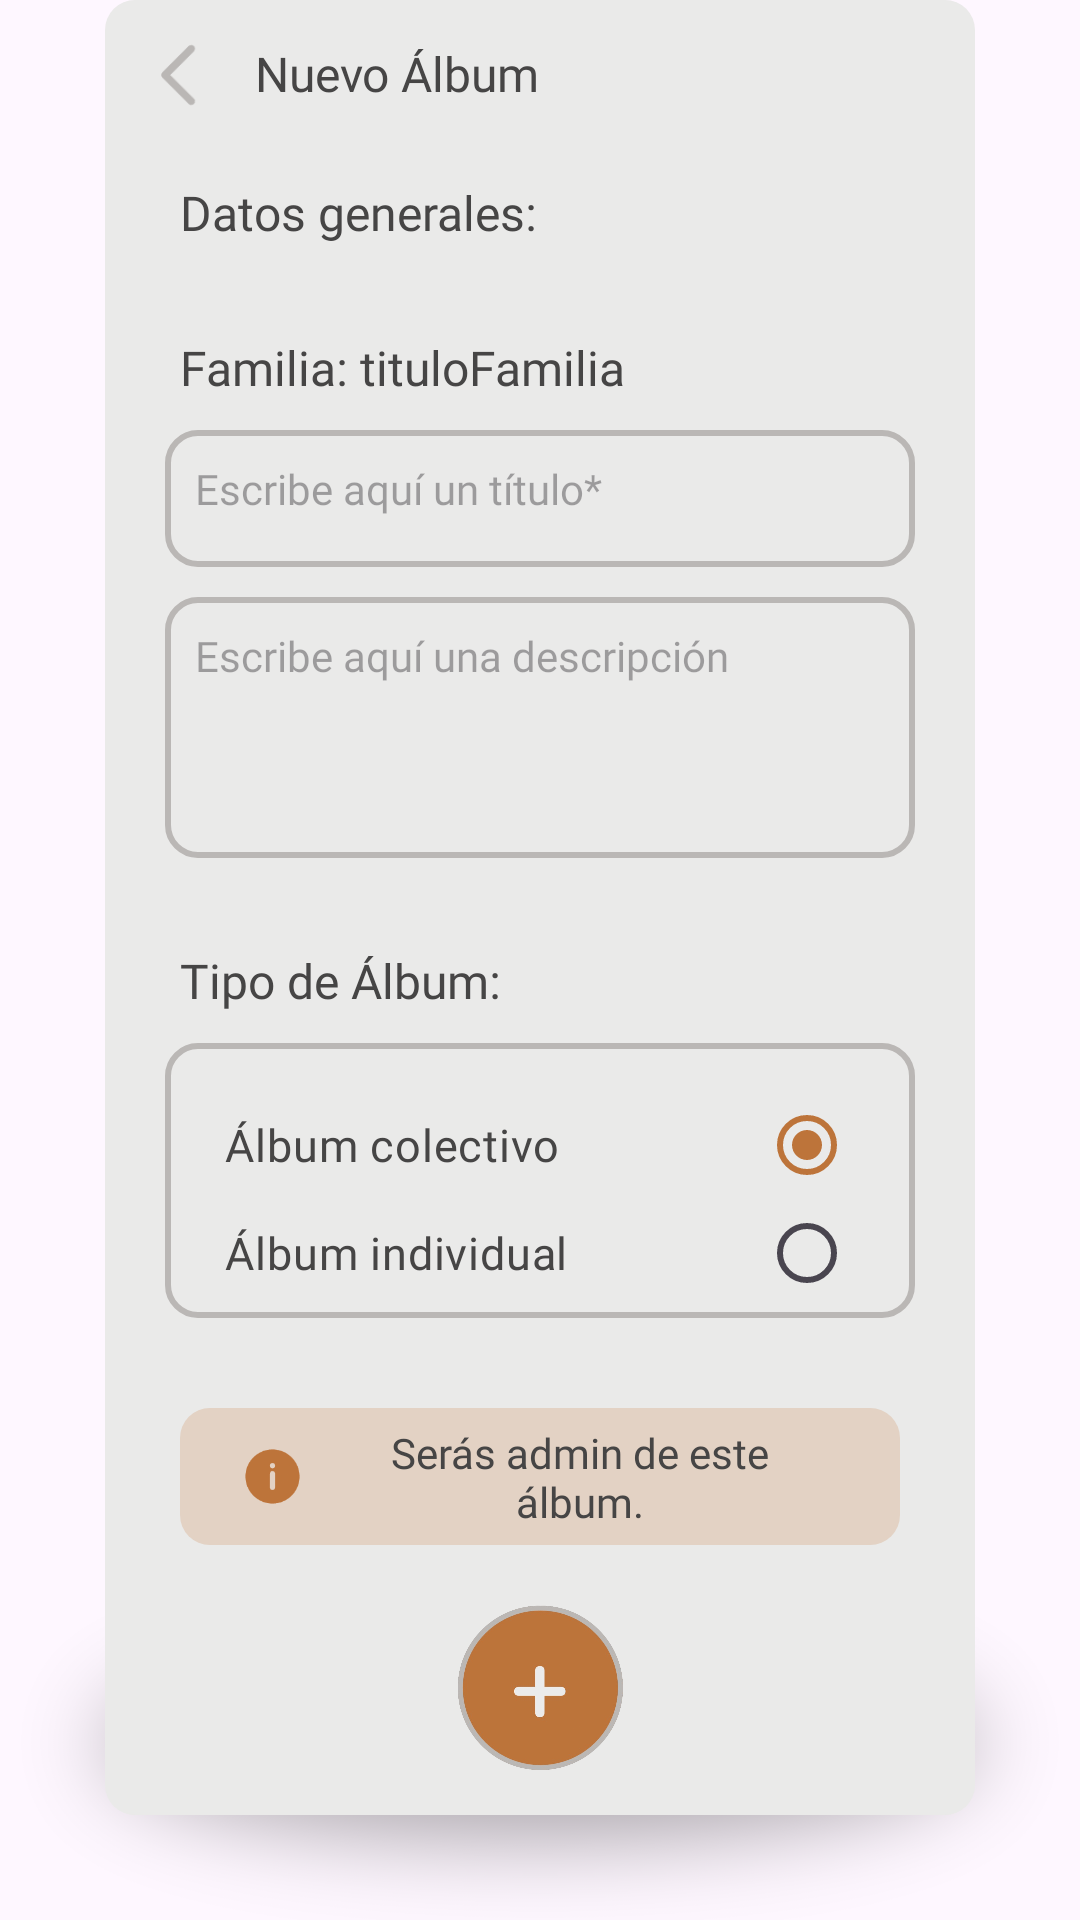

Where icons sit on this 1080×1920 app screen, as (x1, y1, x2, y2):
chevronleftgrey: (161, 45, 195, 105)
